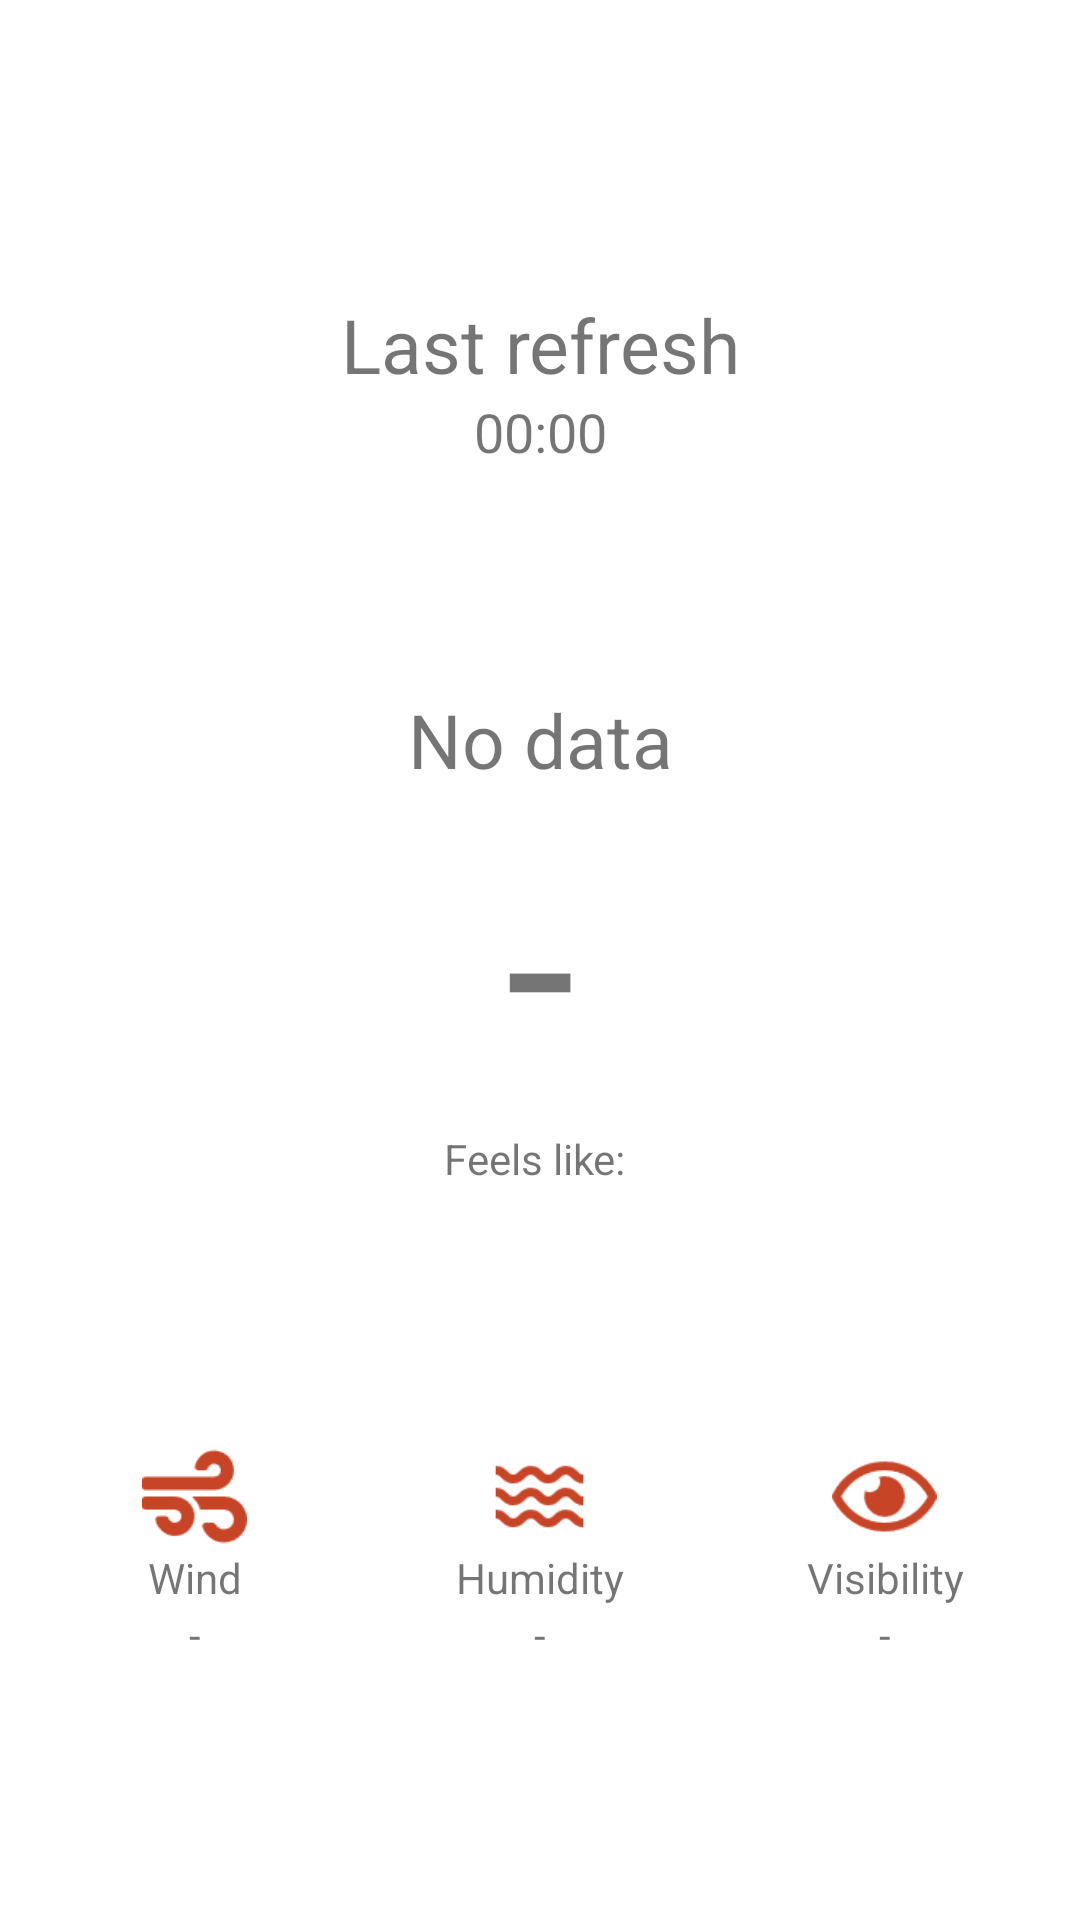

Icon click points for this 1080*1920 phone screenshot, format [x,y]:
eye: [884,1496]
